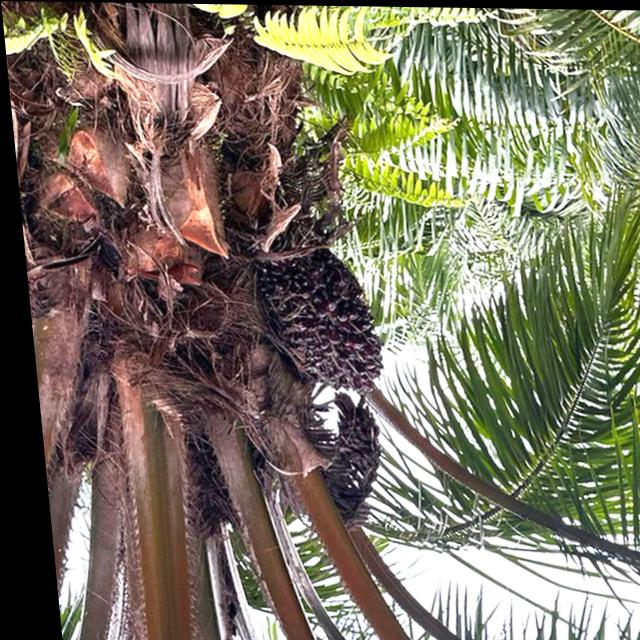ripe: (253, 252, 383, 396)
